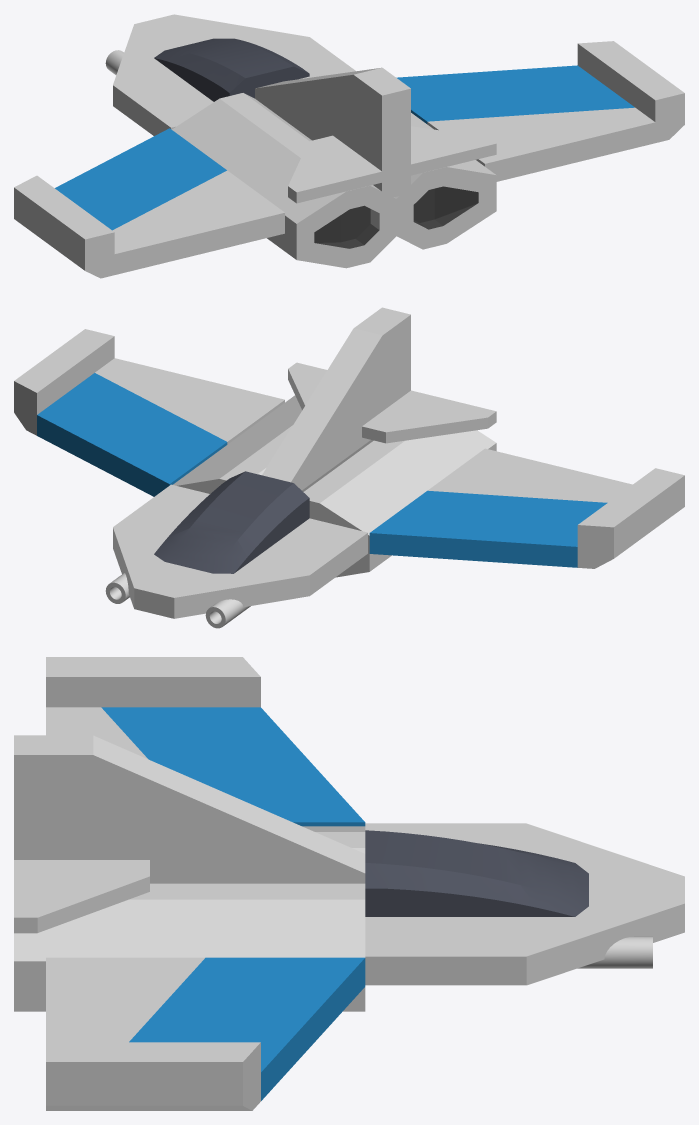
The model's file is SpaceShip.fbx.
3 renders of one model, top to bottom at view 1: azimuth 30°, elevation 25°; view 2: azimuth 150°, elevation 25°; view 3: azimuth 270°, elevation 25°, orthographic. The views are drawn at different scales.
Visible parts, largest first — view 1: wind_endLow_1, wind_endLow_2, plane_rudderLarge_0, engine_barrel_7, engine_barrel_8, plane_elevator_10, glass_round_3, plane_elevator_11, block_default_12; view 2: wind_endLow_1, wind_endLow_2, plane_rudderLarge_0, engine_barrel_7, glass_round_3, plane_elevator_10, plane_elevator_11, engine_barrel_8, block_default_12, cylinder_hollow_15, cylinder_hollow_16; view 3: wind_endLow_2, plane_rudderLarge_0, wind_endLow_1, engine_barrel_8, plane_elevator_11, glass_round_3, plane_elevator_10, block_default_12, cylinder_hollow_16, engine_barrel_7.
Part boxes in pixels (box(x1,y1,x2,y2)): wind_endLow_1: box(14, 128, 284, 278); wind_endLow_2: box(396, 41, 684, 181); plane_rudderLarge_0: box(255, 67, 496, 203); engine_barrel_7: box(172, 93, 397, 268); engine_barrel_8: box(299, 74, 496, 249); plane_elevator_10: box(113, 24, 213, 135); glass_round_3: box(154, 38, 309, 101); plane_elevator_11: box(174, 14, 355, 76); block_default_12: box(134, 14, 208, 49); wind_endLow_1: box(369, 448, 684, 568); wind_endLow_2: box(14, 329, 284, 496); plane_rudderLarge_0: box(262, 307, 496, 490); engine_barrel_7: box(302, 430, 496, 577); glass_round_3: box(154, 471, 309, 573); plane_elevator_10: box(174, 518, 367, 618); plane_elevator_11: box(113, 484, 209, 608); engine_barrel_8: box(173, 395, 301, 493); block_default_12: box(134, 563, 208, 618); cylinder_hollow_15: box(205, 599, 250, 628); cylinder_hollow_16: box(105, 573, 129, 603); wind_endLow_2: box(46, 957, 365, 1110); plane_rudderLarge_0: box(14, 735, 365, 933); wind_endLow_1: box(46, 657, 365, 826); engine_barrel_8: box(14, 883, 365, 1011); plane_elevator_11: box(365, 903, 684, 985); glass_round_3: box(365, 830, 588, 916); plane_elevator_10: box(365, 823, 684, 876); block_default_12: box(589, 876, 684, 903); cylinder_hollow_16: box(577, 936, 652, 968); engine_barrel_7: box(302, 826, 365, 853).
Size of the model in its own units: 30 by 7.84 by 21.
